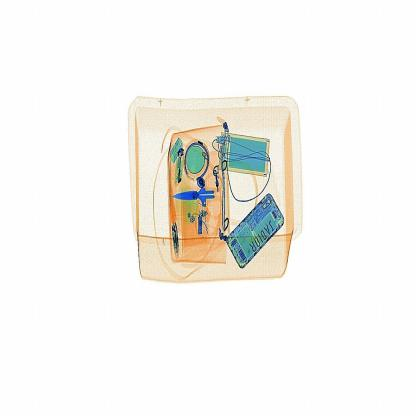gun: (172, 171, 233, 220)
